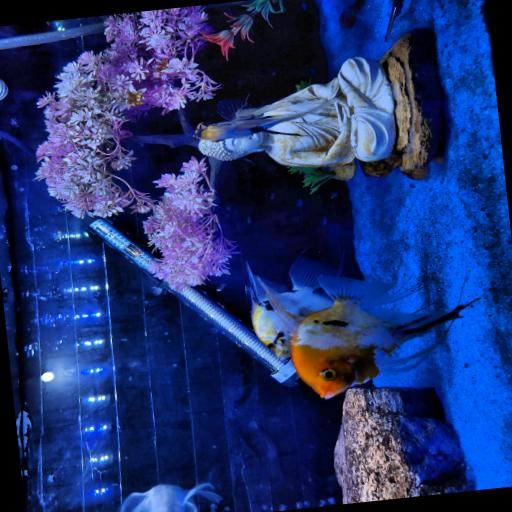Fish: (258, 274, 467, 397), (247, 258, 340, 358), (195, 96, 338, 141), (121, 482, 220, 511)
